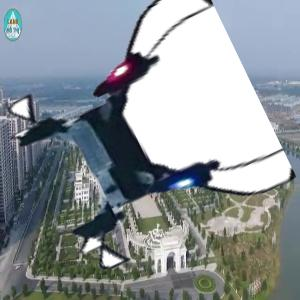drone: (18, 15, 265, 262)
